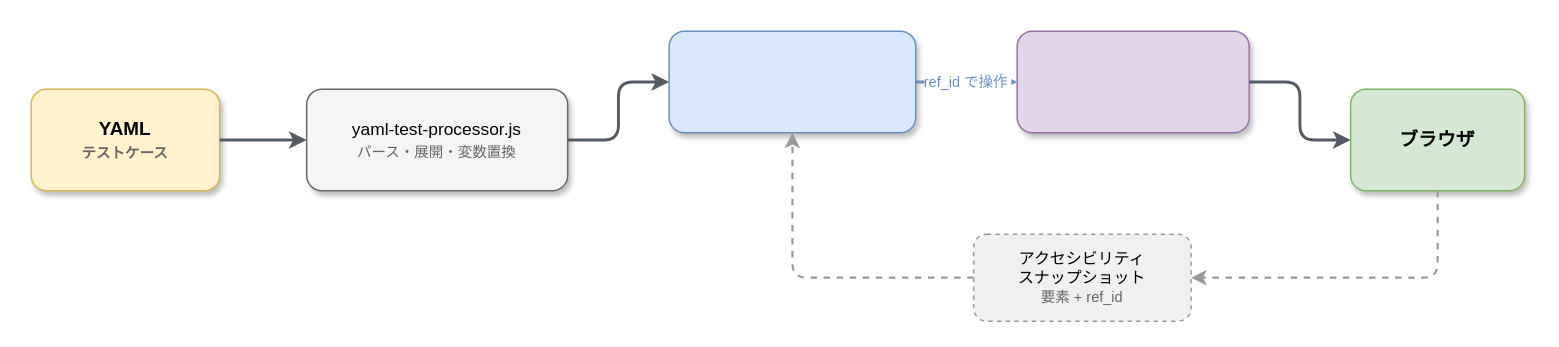
Image size: 1559x347. Some labels were removed from this diagram. The centre of each missing label's shape, as x and y in pixels:
"Claude Code ステップを解釈・推論" goes at (793,83).
"Playwright MCP ブラウザ操作" goes at (1134,83).
